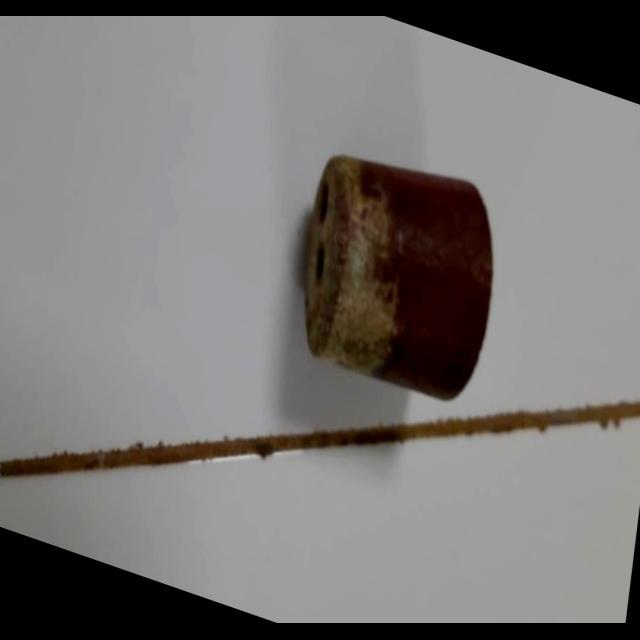Stopper: (290, 128, 507, 422)
